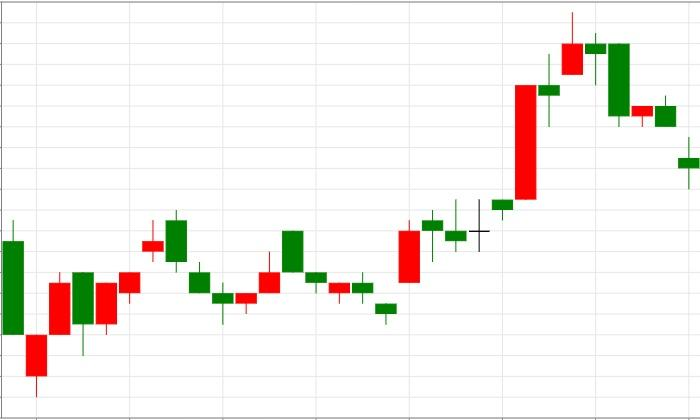bearish_engulfing_fall: (26, 209, 186, 397)
